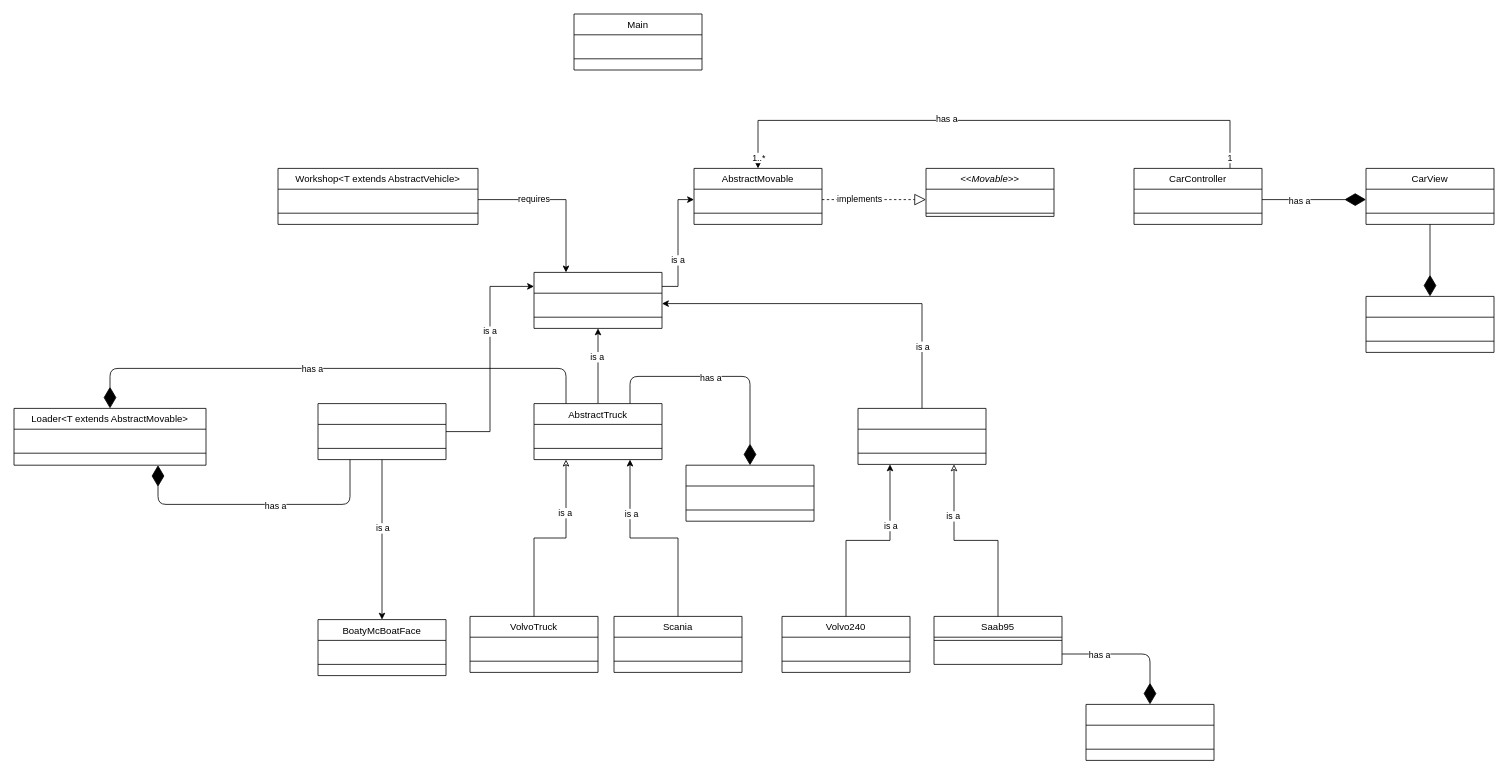
Some shapes in this 1508 by 774 pixel diagram are drawn without their labels. Here are the shapes that lost their labels. From the top down, the centre of each, then its label:
At (x=597, y=300): "AbstractVehicle".
At (x=1429, y=324): "DrawPanel".
At (x=381, y=431): "AbstractFerry".
At (x=921, y=436): "AbstractCar".
At (x=749, y=492): "Ramp".
At (x=1149, y=732): "Turbo".
